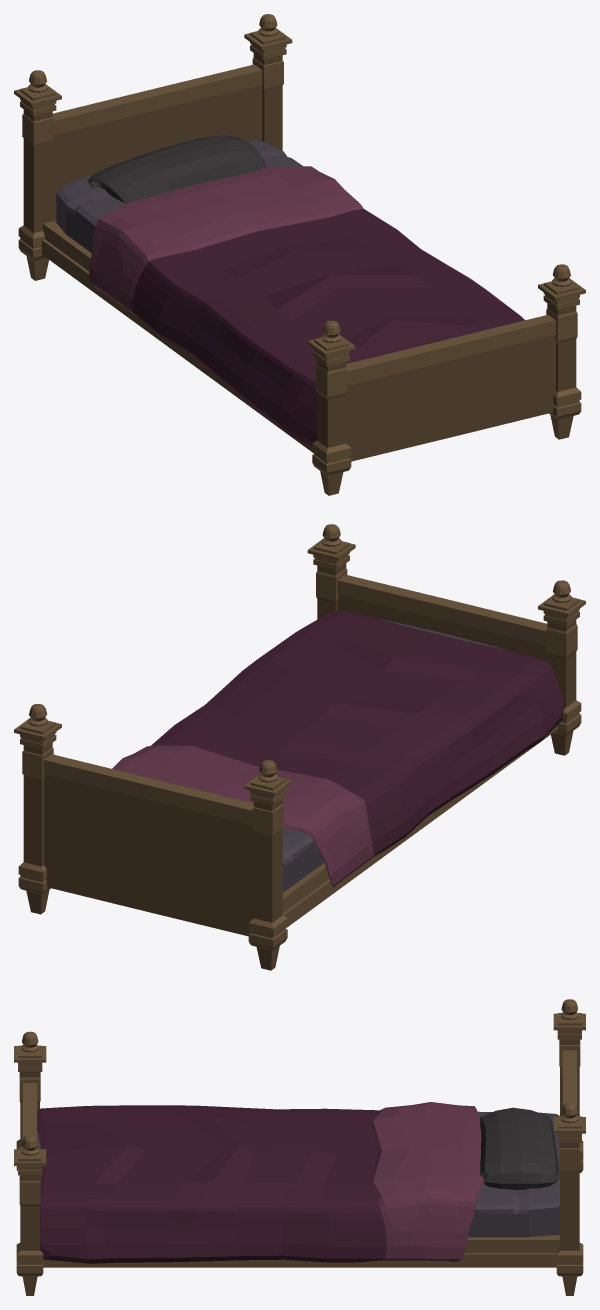
Rendered from Bed Twin.glb.
The picture shows the model from 3 angles, top to bottom: view 1: azimuth 30°, elevation 25°; view 2: azimuth 150°, elevation 25°; view 3: azimuth 270°, elevation 25°; orthographic projection. The views are drawn at different scales.
Visible parts, largest first — view 1: Comforter, BedFrame, Pillow, Mattress; view 2: Comforter, BedFrame, Mattress; view 3: Comforter, BedFrame, Pillow, Mattress.
Part boxes in pixels (box(x1,y1,x2,y2)): Comforter: box(89, 166, 524, 446); BedFrame: box(14, 14, 585, 495); Pillow: box(87, 135, 267, 203); Mattress: box(56, 140, 302, 252); Comforter: box(112, 610, 563, 887); BedFrame: box(14, 524, 585, 970); Mattress: box(282, 618, 507, 892); Comforter: box(37, 1102, 483, 1263); BedFrame: box(14, 999, 585, 1295); Pillow: box(480, 1107, 559, 1189); Mattress: box(37, 1111, 559, 1237).
Bounding box in the file's own units: 2.06 × 1.56 × 4.26.
